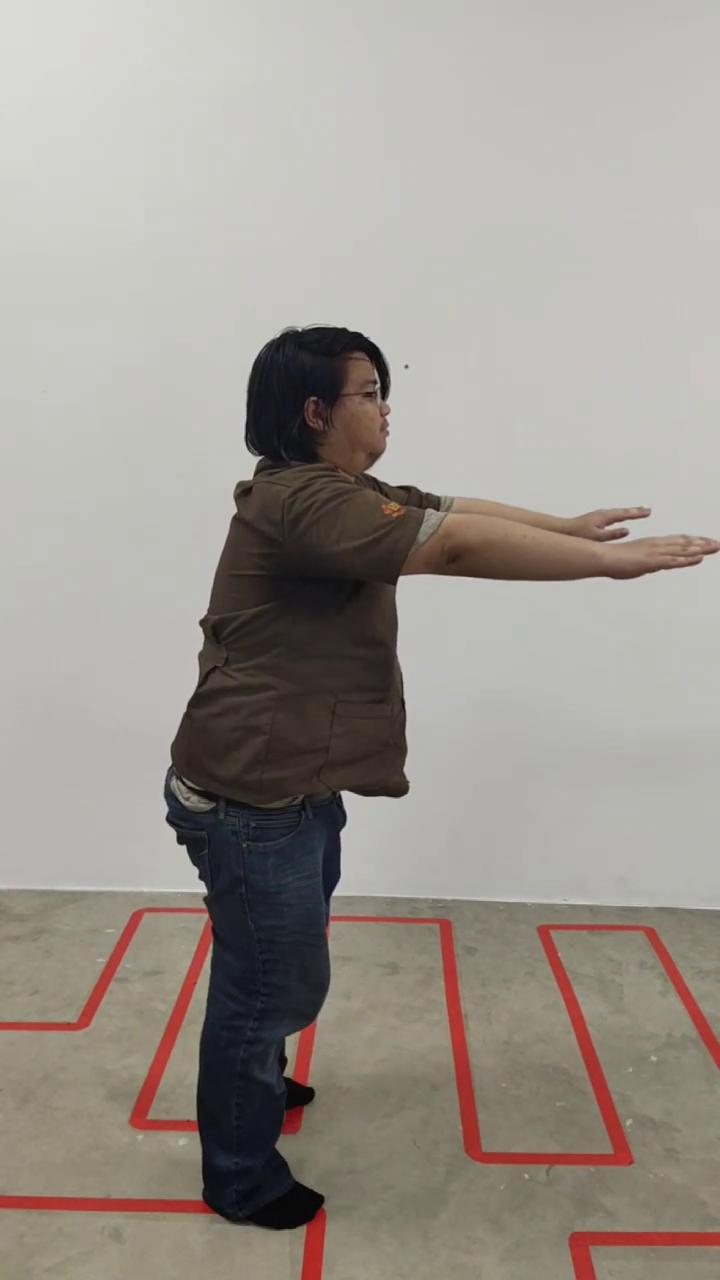squat up: (164, 323, 720, 1233)
